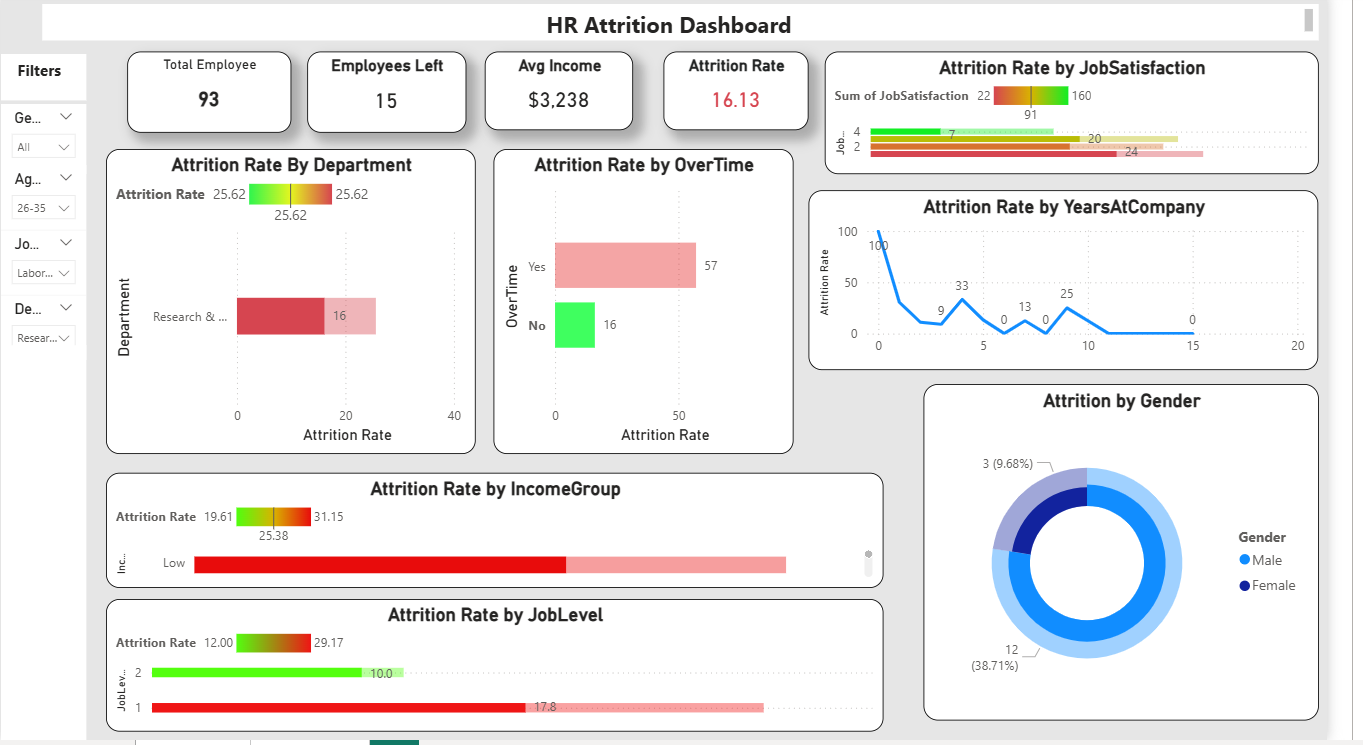

Layout of this report page (visuals, bound fields, positions):
{"tool":"powerbi","page":{"name":"Overview","canvas":[1280,720],"ordinal":0},"visuals":[{"type":"card","title":"Total Employee","fields":{"Values":["hr_clean.Total Employees"]},"box":[121.9,55.5,158,78.4],"z":0},{"type":"card","title":"Employees Left","fields":{"Values":["hr_clean.Employees Left"]},"box":[295.6,55.5,153.2,78.4],"z":1000},{"type":"card","title":"Attrition Rate","fields":{"Values":["hr_clean.Attrition Rate"]},"box":[639.4,55.5,139.9,76],"z":2000},{"type":"card","title":"Avg Income","fields":{"Values":["hr_clean.Avg Income"]},"box":[466.9,55.5,143.6,76],"z":3000},{"type":"clusteredBarChart","title":"Attrition Rate By Department","fields":{"Y":["hr_clean.Attrition Rate"],"Category":["hr_clean.Department"]},"box":[101.3,149.6,357.1,294.4],"z":4000},{"type":"donutChart","title":" Attrition by Gender","fields":{"Y":["Sum(hr_clean.Attrition_Flag)"],"Category":["hr_clean.Gender"]},"box":[890.4,376.4,381.2,324.5],"z":6000},{"type":"clusteredBarChart","fields":{"Category":["hr_clean.OverTime"],"Y":["hr_clean.Attrition Rate"]},"box":[475.3,149.6,289.5,294.4],"z":6001},{"type":"clusteredBarChart","fields":{"Category":["hr_clean.JobSatisfaction"],"Y":["hr_clean.Attrition Rate"]},"box":[795,55.5,476.5,118.2],"z":6003},{"type":"clusteredBarChart","fields":{"Y":["hr_clean.Attrition Rate"],"Category":["hr_clean.JobLevel"]},"box":[101.3,583.9,750.4,127.9],"z":6005},{"type":"clusteredBarChart","fields":{"Y":["hr_clean.Attrition Rate"],"Category":["hr_clean.IncomeGroup"]},"box":[101.3,462.1,750.4,111],"z":6006},{"type":"lineChart","fields":{"Category":["hr_clean.YearsAtCompany"],"Y":["hr_clean.Attrition Rate"]},"box":[779.4,189.4,492.2,173.7],"z":6007},{"type":"textbox","box":[39.8,9.7,1231.8,35],"z":6008},{"type":"slicer","fields":{"Values":["hr_clean.Gender"]},"box":[0,106.2,82,67.6],"z":6009},{"type":"slicer","fields":{"Values":["hr_clean.JobRole"]},"box":[0,228,82,62.7],"z":6010},{"type":"slicer","fields":{"Values":["hr_clean.AgeGroup"]},"box":[0,165.3,82,62.7],"z":6011},{"type":"slicer","fields":{"Values":["hr_clean.Department"]},"box":[0,290.8,82,62.7],"z":6012},{"type":"textbox","box":[0,9.6,82.3,93.3],"z":6013},{"type":"textbox","box":[0,339,82,381.2],"z":6014}]}

Visuals, with their boxes in screenshot pixels (x1, y1, x2, y2):
"Total Employee" card: pyautogui.locateOnScreen(139, 57, 300, 137)
"Employees Left" card: pyautogui.locateOnScreen(316, 57, 472, 137)
"Attrition Rate" card: pyautogui.locateOnScreen(667, 57, 810, 134)
"Avg Income" card: pyautogui.locateOnScreen(491, 57, 637, 134)
"Attrition Rate By Department" clusteredBarChart: pyautogui.locateOnScreen(118, 153, 482, 453)
" Attrition by Gender" donutChart: pyautogui.locateOnScreen(923, 384, 1312, 716)
clusteredBarChart - hr_clean.OverTime x hr_clean.Attrition Rate: pyautogui.locateOnScreen(499, 153, 795, 453)
clusteredBarChart - hr_clean.JobSatisfaction x hr_clean.Attrition Rate: pyautogui.locateOnScreen(826, 57, 1312, 177)
clusteredBarChart - hr_clean.Attrition Rate x hr_clean.JobLevel: pyautogui.locateOnScreen(118, 596, 884, 727)
clusteredBarChart - hr_clean.Attrition Rate x hr_clean.IncomeGroup: pyautogui.locateOnScreen(118, 472, 884, 585)
lineChart - hr_clean.YearsAtCompany x hr_clean.Attrition Rate: pyautogui.locateOnScreen(810, 193, 1312, 371)
textbox: pyautogui.locateOnScreen(55, 10, 1312, 46)
slicer - hr_clean.Gender: pyautogui.locateOnScreen(14, 108, 98, 177)
slicer - hr_clean.JobRole: pyautogui.locateOnScreen(14, 233, 98, 297)
slicer - hr_clean.AgeGroup: pyautogui.locateOnScreen(14, 169, 98, 233)
slicer - hr_clean.Department: pyautogui.locateOnScreen(14, 297, 98, 361)
textbox: pyautogui.locateOnScreen(14, 10, 98, 105)
textbox: pyautogui.locateOnScreen(14, 346, 98, 735)
